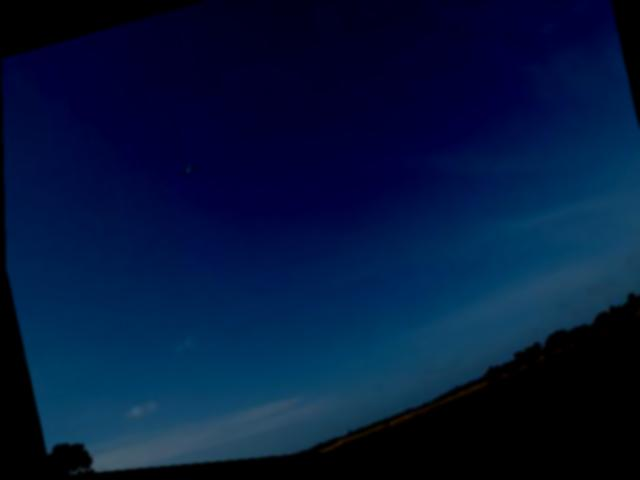uav: (176, 159, 200, 184)
